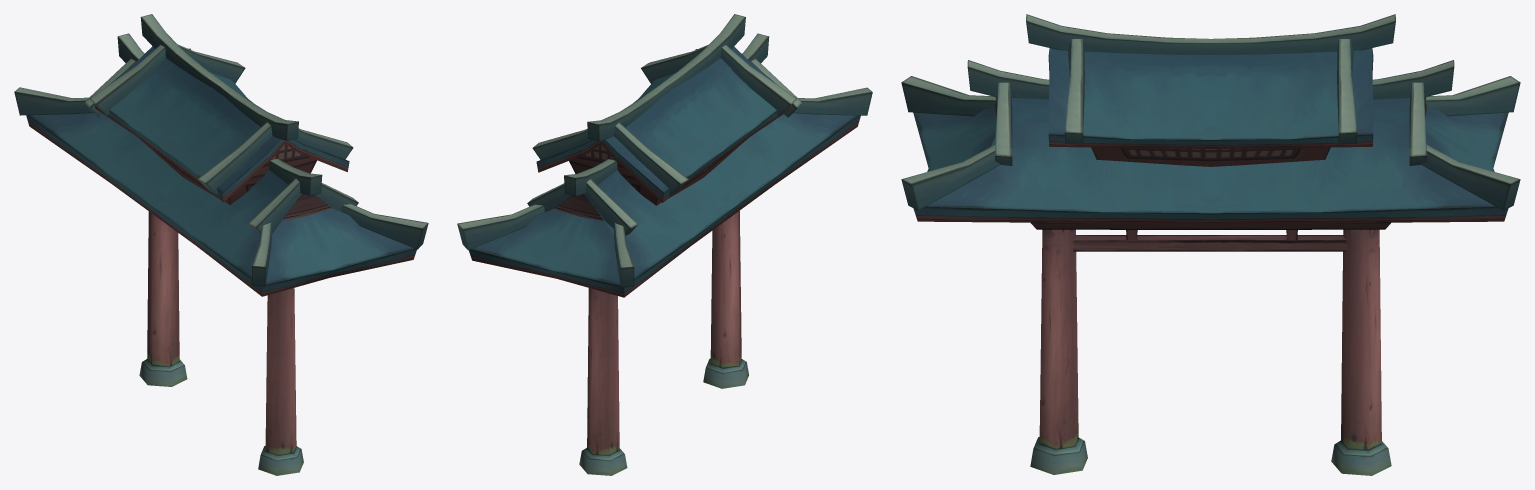
Rendered from SM_Build3.fbx.
The picture shows the model from 3 angles, left to right: view 1: azimuth 30°, elevation 25°; view 2: azimuth 150°, elevation 25°; view 3: azimuth 270°, elevation 25°; orthographic projection. The views are drawn at different scales.
Visible parts, largest first — view 1: Build3; view 2: Build3; view 3: Build3.
Boxes of the visible parts, bbox=[...] form: Build3: bbox=[14, 14, 428, 475]; Build3: bbox=[457, 14, 872, 475]; Build3: bbox=[901, 14, 1520, 475].
Bounding box in the file's own units: 6.33 × 12.08 × 15.27.
Materials: 1 (1 with a texture image).
